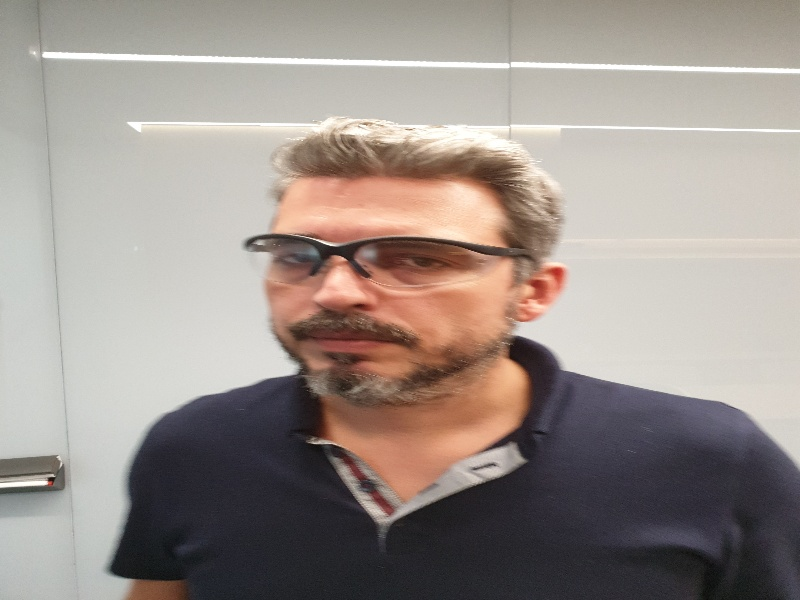Gozluk: (244, 232, 536, 292)
